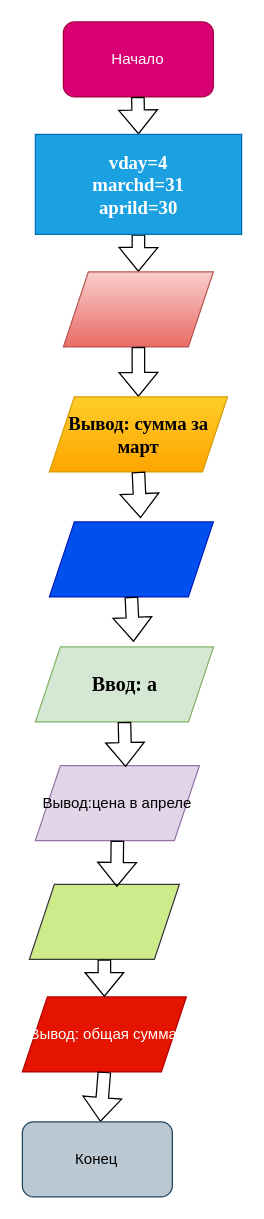
Some shapes in this 264 by 1219 pixel diagram are drawn without their labels. Here are the shapes that lost their labels. From the top down, the centre of each, then its label:
point 137,309: Ввод: x
point 130,559: Вывод: Сумма увеличения цены в апреле
point 103,921: Вывод: сумма за апрель
